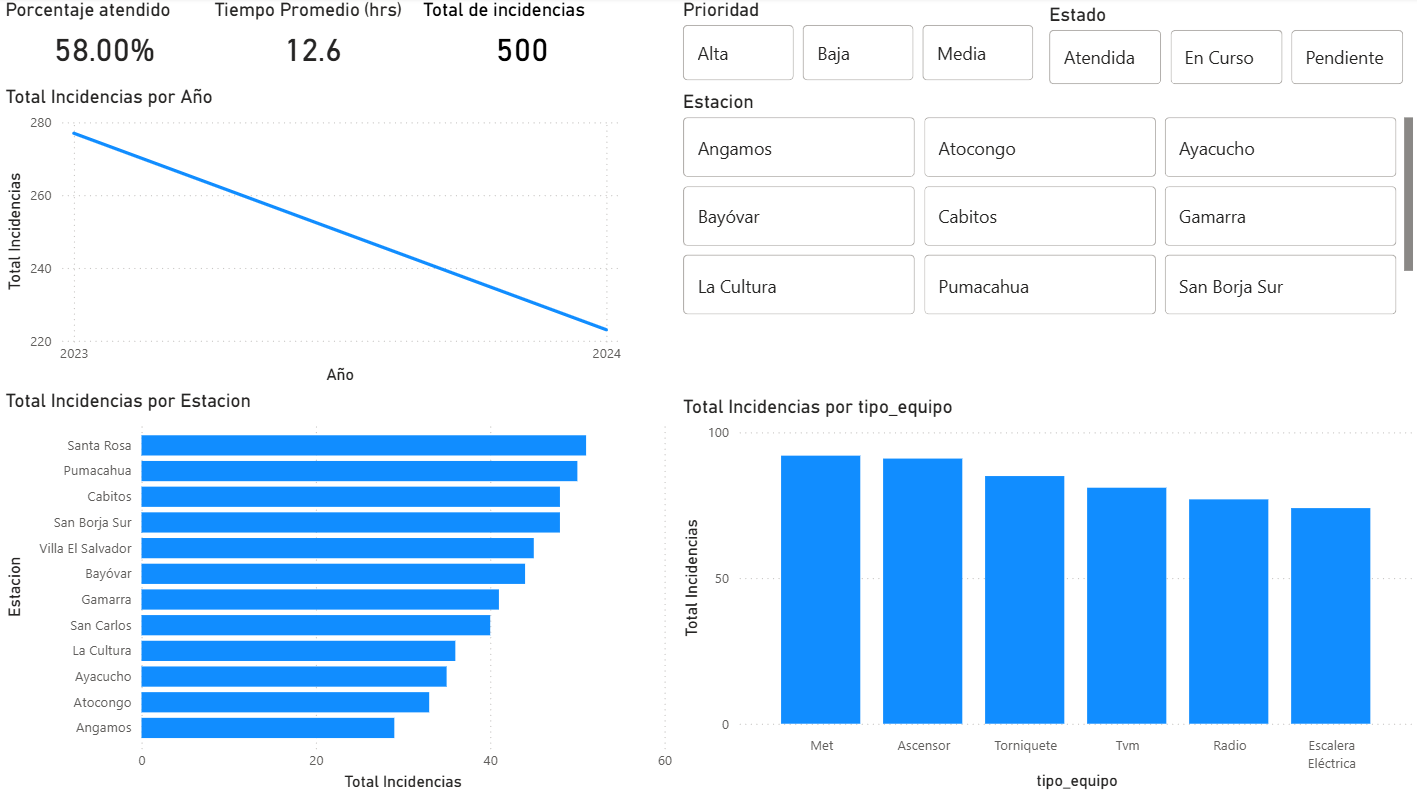

This screenshot's page, from the dashboard's own definition file:
{"tool":"powerbi","page":{"name":"Página 1","canvas":[1280,720],"ordinal":0},"visuals":[{"type":"card","title":"Total de incidencias","fields":{"Values":["Incidencias.Total Incidencias"]},"box":[376.6,1.2,188.3,70.9],"z":0},{"type":"card","title":"Tiempo Promedio (hrs)","fields":{"Values":["Incidencias.Tiempo Promedio Atención"]},"box":[188.3,1.2,188.3,70.9],"z":1000},{"type":"barChart","fields":{"Category":["Incidencias.estacion"],"Y":["Incidencias.Total Incidencias"]},"box":[0,353.4,611.4,366.8],"z":2000},{"type":"columnChart","fields":{"Category":["Incidencias.tipo_equipo"],"Y":["Incidencias.Total Incidencias"]},"box":[611.4,359.5,668.9,360.7],"z":3000},{"type":"lineChart","fields":{"Category":["Incidencias.mes_reporte.Variación.Jerarquía de fechas.Año","Incidencias.mes_reporte.Variación.Jerarquía de fechas.Trimestre","Incidencias.mes_reporte.Variación.Jerarquía de fechas.Mes","Incidencias.mes_reporte.Variación.Jerarquía de fechas.Día"],"Y":["Incidencias.Total Incidencias"]},"box":[0,79.5,564.9,273.9],"z":4000},{"type":"advancedSlicerVisual","title":"Prioridad","fields":{"Values":["Incidencias.prioridad"]},"box":[611.4,1.2,328.9,79.5],"z":5000},{"type":"advancedSlicerVisual","title":"Estacion","fields":{"Values":["Incidencias.estacion"]},"box":[611.1,84.4,668.9,209.1],"z":6000},{"type":"card","title":"Porcentaje atendido","fields":{"Values":["Incidencias.% Atendidas"]},"box":[0,1.2,188.3,70.9],"z":7000},{"type":"advancedSlicerVisual","title":"Estado","fields":{"Values":["Incidencias.estado"]},"box":[940.8,5.7,329.3,78.4],"z":8000}]}

Visuals, with their boxes in screenshot pixels (x1, y1, x2, y2), scaled from the page's 1280x720 canvas onto the 1417x792 screenshot:
"Total de incidencias" card: region(417, 1, 625, 79)
"Tiempo Promedio (hrs)" card: region(208, 1, 417, 79)
barChart - Incidencias.estacion x Incidencias.Total Incidencias: region(0, 389, 677, 791)
columnChart - Incidencias.tipo_equipo x Incidencias.Total Incidencias: region(677, 395, 1416, 791)
lineChart - Incidencias.mes_reporte.Variación.Jerarquía de fechas.Año x Incidencias.mes_reporte.Variación.Jerarquía de fechas.Trimestre: region(0, 87, 625, 389)
"Prioridad" advancedSlicerVisual: region(677, 1, 1041, 89)
"Estacion" advancedSlicerVisual: region(677, 93, 1416, 323)
"Porcentaje atendido" card: region(0, 1, 208, 79)
"Estado" advancedSlicerVisual: region(1041, 6, 1406, 93)
